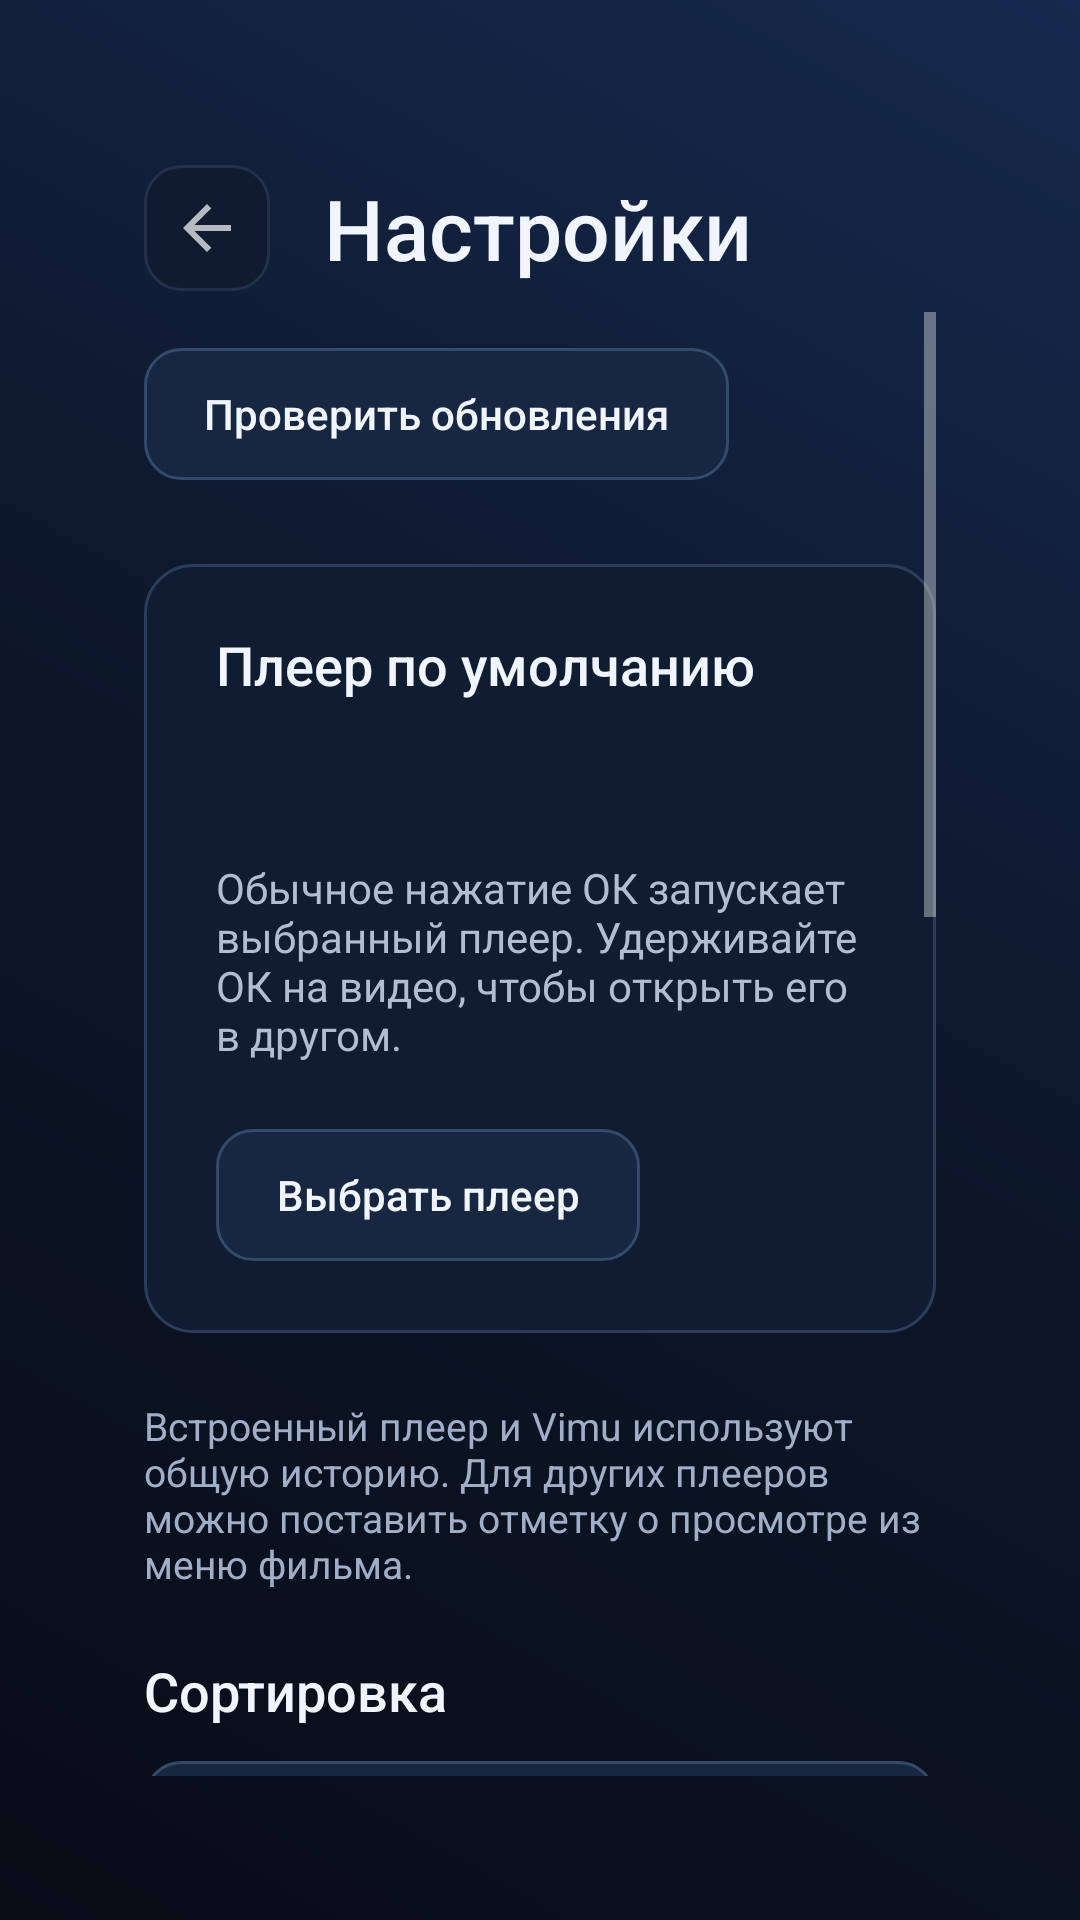

Named icons in this screenshot (1080w x 1920h) and their centers, (x=x, y=y):
Назад: (x=207, y=228)
